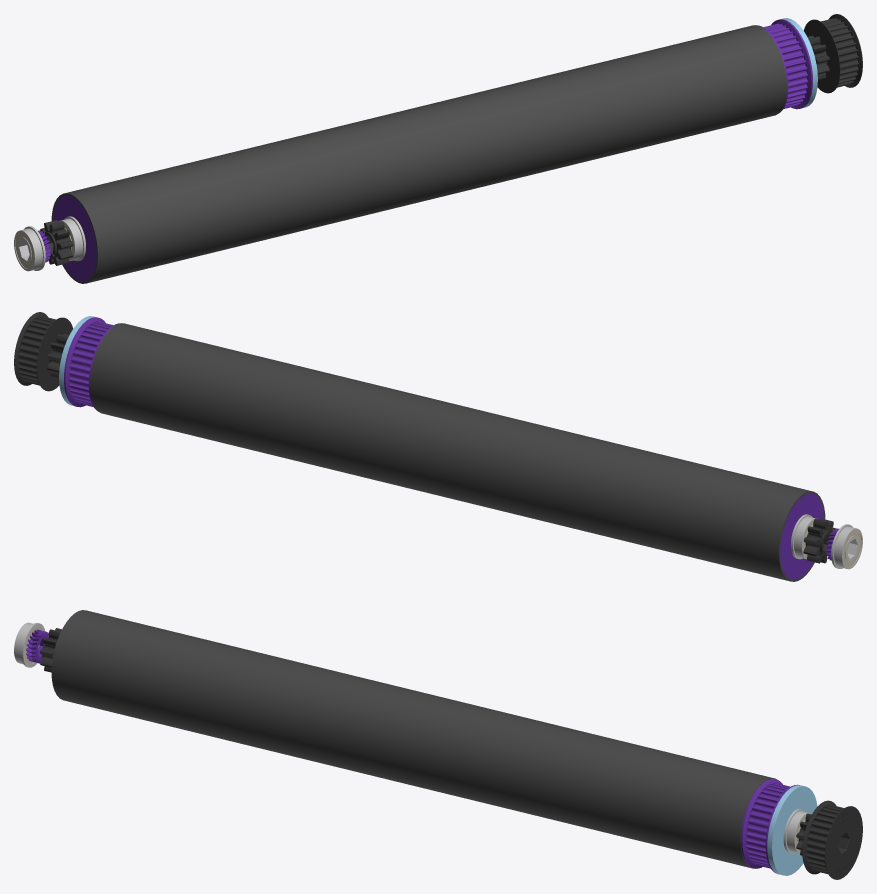
3 renders of one model, top to bottom at view 1: azimuth 30°, elevation 25°; view 2: azimuth 150°, elevation 25°; view 3: azimuth 330°, elevation 25°, orthographic.
Visible parts, largest first — view 1: WCP-1279, 30t Custom HTD 5mm Pulley (0.591" Wide, *0.5" Hex Bore), 37t Custom HTD 5mm Pulley (0.63" Wide, *1.25" Circular Bore), 1/2" Hex Bore Bearing (1.125" OD, 0.313" WD, Shielded, Flang (×2), Part 1, 10t Steel Spur Gear (10 DP, 1/2" Hex Bore) (×2); view 2: WCP-1279, 30t Custom HTD 5mm Pulley (0.591" Wide, *0.5" Hex Bore), 37t Custom HTD 5mm Pulley (0.63" Wide, *1.25" Circular Bore), 1/2" Hex Bore Bearing (1.125" OD, 0.313" WD, Shielded, Flang (×2), Part 1, 10t Steel Spur Gear (10 DP, 1/2" Hex Bore) (×2); view 3: WCP-1279, 30t Custom HTD 5mm Pulley (0.591" Wide, *0.5" Hex Bore), 37t Custom HTD 5mm Pulley (0.63" Wide, *1.25" Circular Bore), Part 1, 1/2" Hex Bore Bearing (1.125" OD, 0.313" WD, Shielded, Flang (×2).
Part boxes in pixels (box(x1,y1,x2,y2)): WCP-1279: box(51, 25, 786, 283); 30t Custom HTD 5mm Pulley (0.591" Wide, *0.5" Hex Bore): box(803, 14, 862, 93); 37t Custom HTD 5mm Pulley (0.63" Wide, *1.25" Circular Bore): box(757, 19, 812, 112); 1/2" Hex Bore Bearing (1.125" OD, 0.313" WD, Shielded, Flang (×2): box(14, 216, 85, 271); Part 1: box(52, 195, 96, 281); 10t Steel Spur Gear (10 DP, 1/2" Hex Bore) (×2): box(40, 35, 829, 265); WCP-1279: box(90, 323, 825, 581); 30t Custom HTD 5mm Pulley (0.591" Wide, *0.5" Hex Bore): box(14, 312, 73, 391); 37t Custom HTD 5mm Pulley (0.63" Wide, *1.25" Circular Bore): box(64, 317, 119, 410); 1/2" Hex Bore Bearing (1.125" OD, 0.313" WD, Shielded, Flang (×2): box(791, 514, 862, 569); Part 1: box(780, 493, 824, 579); 10t Steel Spur Gear (10 DP, 1/2" Hex Bore) (×2): box(47, 333, 836, 563); WCP-1279: box(51, 610, 776, 868); 30t Custom HTD 5mm Pulley (0.591" Wide, *0.5" Hex Bore): box(802, 800, 862, 879); 37t Custom HTD 5mm Pulley (0.63" Wide, *1.25" Circular Bore): box(741, 778, 799, 873); Part 1: box(767, 785, 817, 875); 1/2" Hex Bore Bearing (1.125" OD, 0.313" WD, Shielded, Flang (×2): box(14, 622, 811, 853).
Size of the model in its own units: 0.6468 by 0.0635 by 0.0635.
